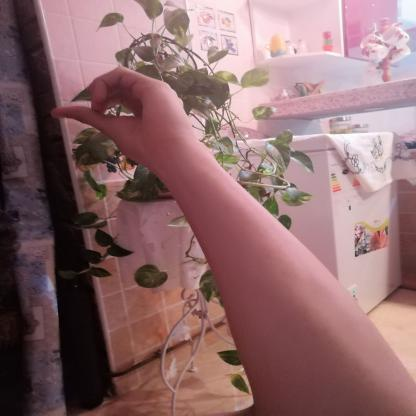WAW: (34, 58, 207, 176)
